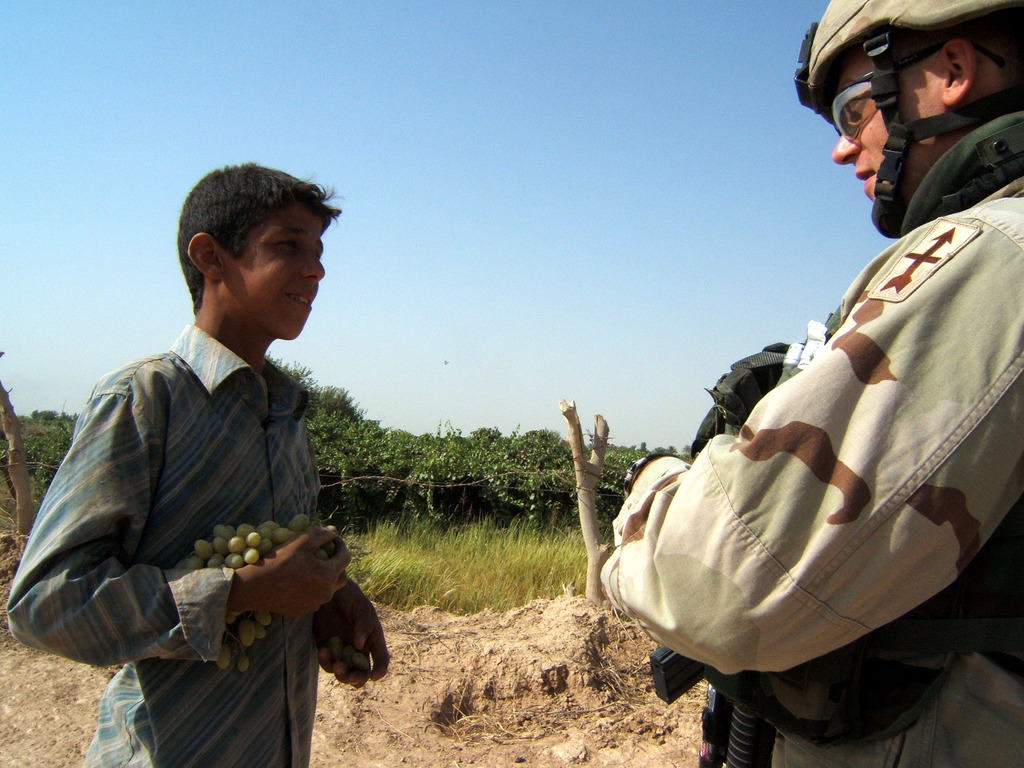Human_hand: (233, 535, 349, 622), (312, 585, 390, 692)
